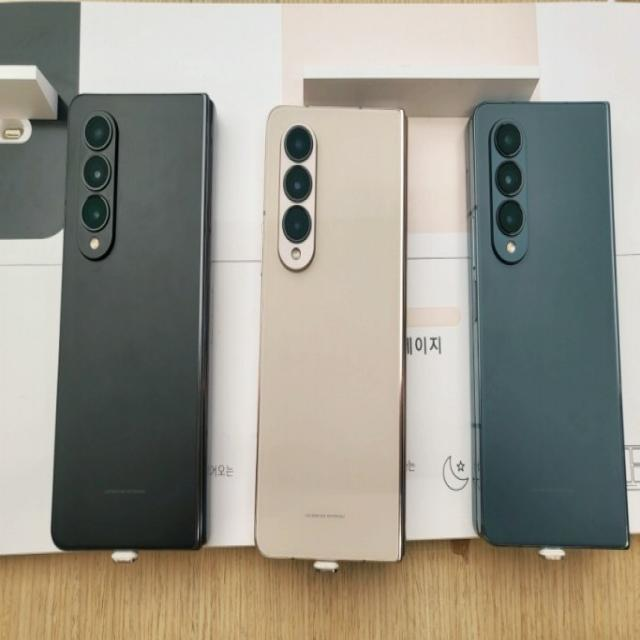phone: (468, 100, 632, 550), (52, 91, 212, 552)
